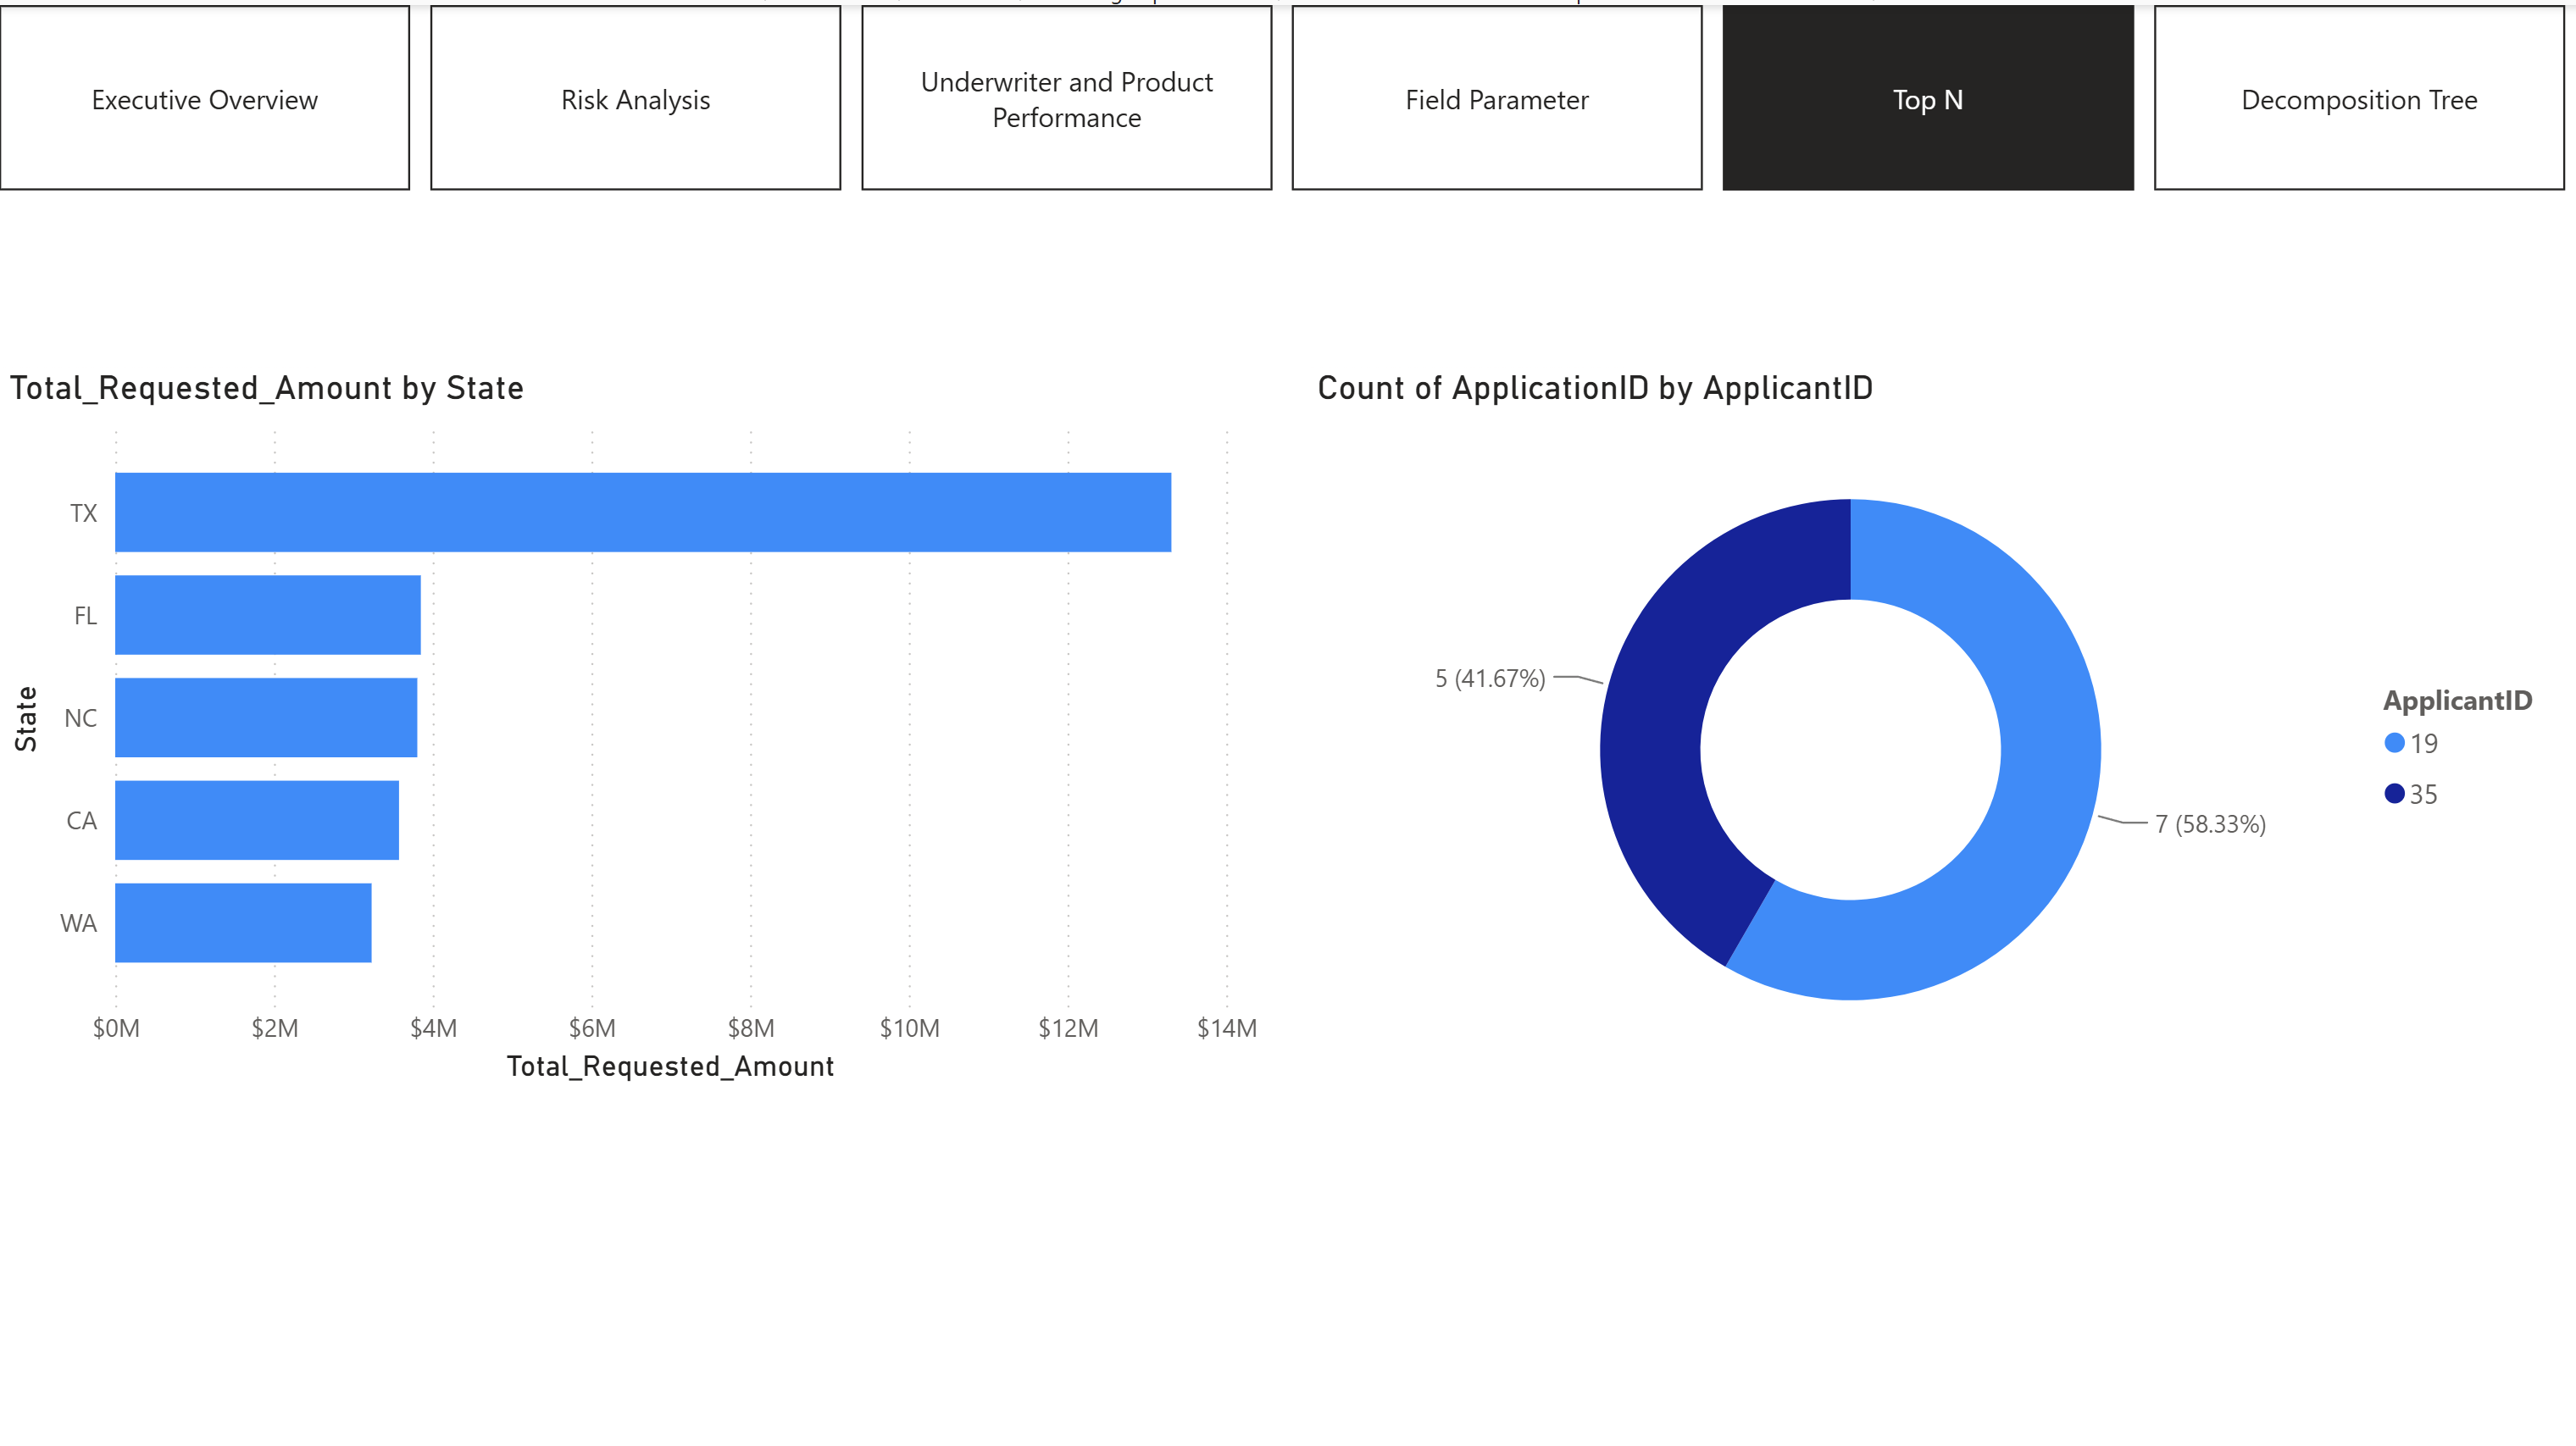

The dashboard page shown, as its layout file describes it:
{"tool":"powerbi","page":{"name":"Top N","canvas":[1280,720],"ordinal":4},"visuals":[{"type":"barChart","fields":{"Category":["DimProperties.State"],"Y":["Measure_Table.Total_Requested_Amount"]},"box":[0,179.8,629.8,359.6],"z":0},{"type":"donutChart","fields":{"Category":["DimApplicants.ApplicantID"],"Y":["CountNonNull(FactApplications.ApplicationID)"]},"box":[649.8,179.8,629.8,360.6],"z":1000},{"type":"pageNavigator","box":[0,0,1279.6,92.5],"z":1001}]}

Visuals, with their boxes in screenshot pixels (x1, y1, x2, y2), scaled from the page's 1280x720 canvas onto the 2576x1446 screenshot:
barChart - DimProperties.State x Measure_Table.Total_Requested_Amount: 0:361:1268:1083
donutChart - DimApplicants.ApplicantID x CountNonNull(FactApplications.ApplicationID): 1307:361:2575:1085
pageNavigator: 0:0:2575:186
